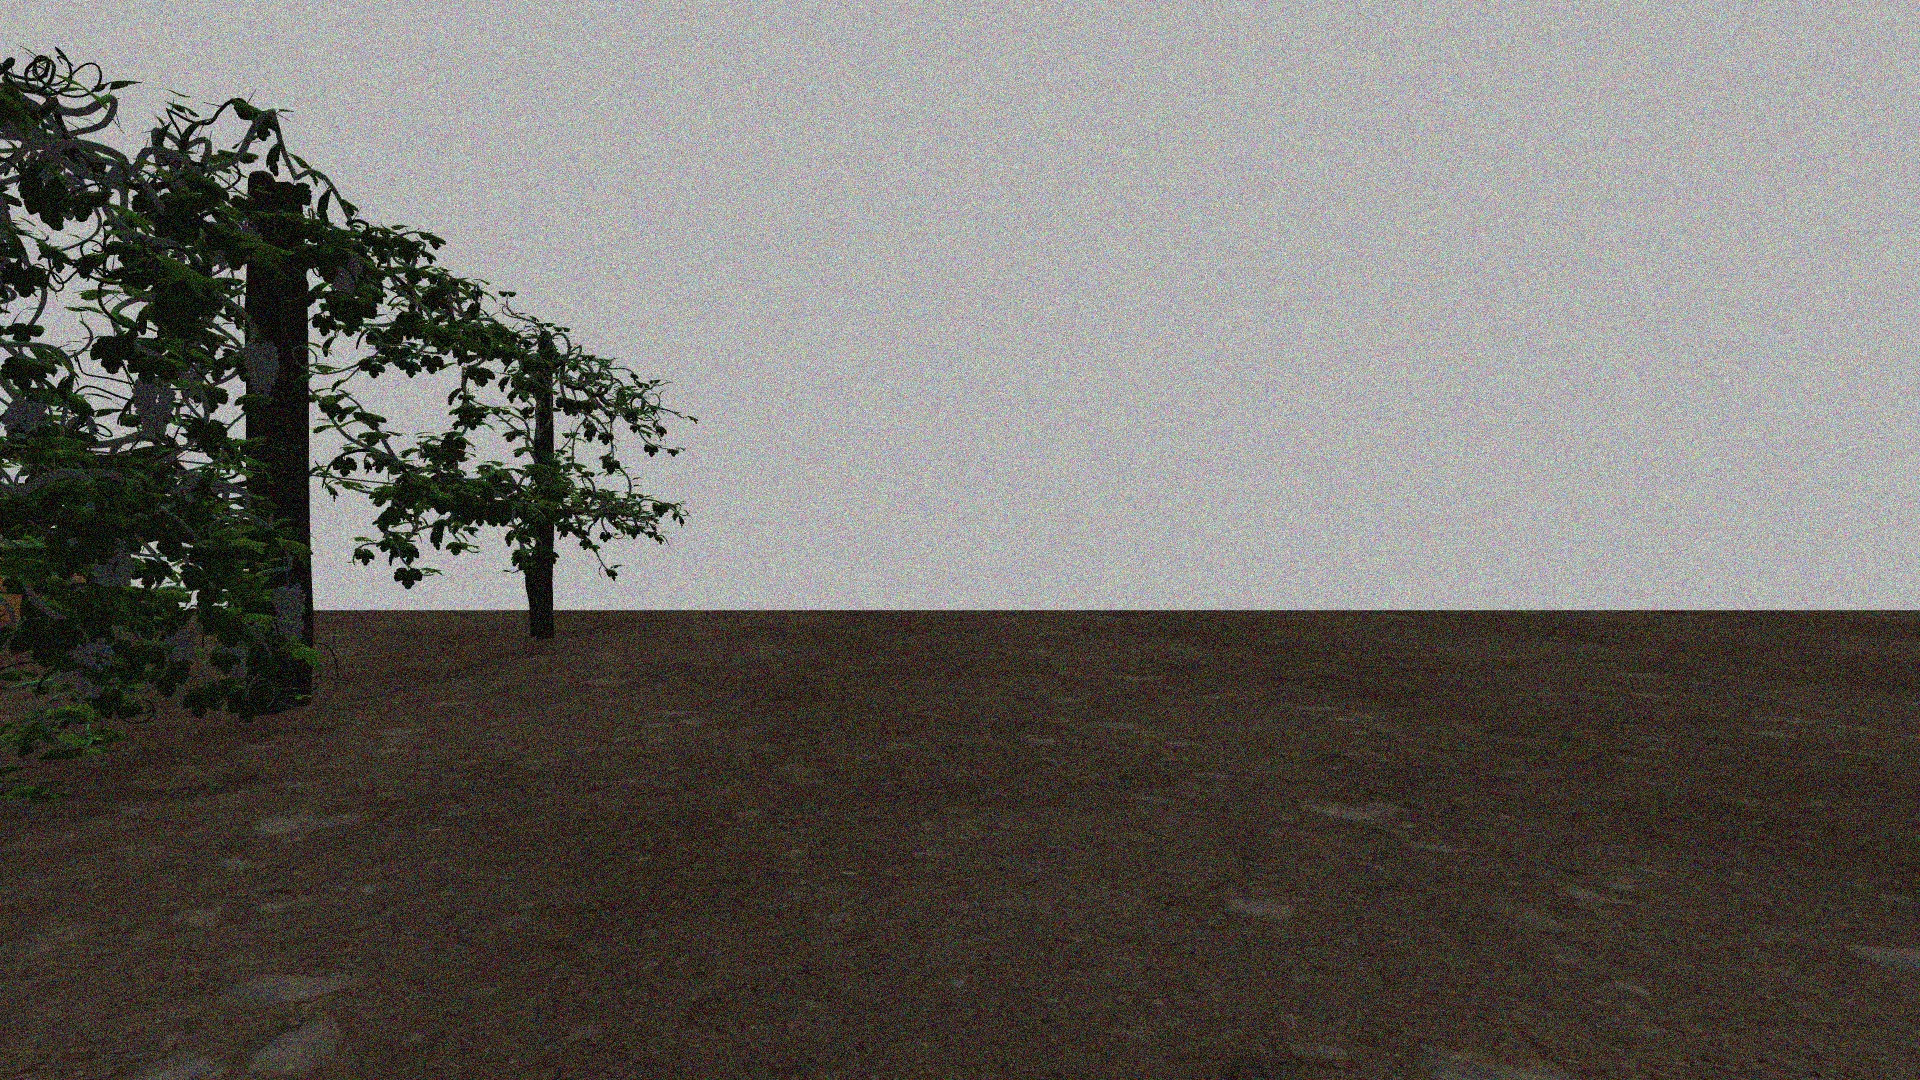grape: (131, 375, 177, 440), (241, 339, 280, 396), (273, 584, 307, 641), (91, 546, 136, 588), (67, 636, 112, 673), (165, 629, 195, 666)
